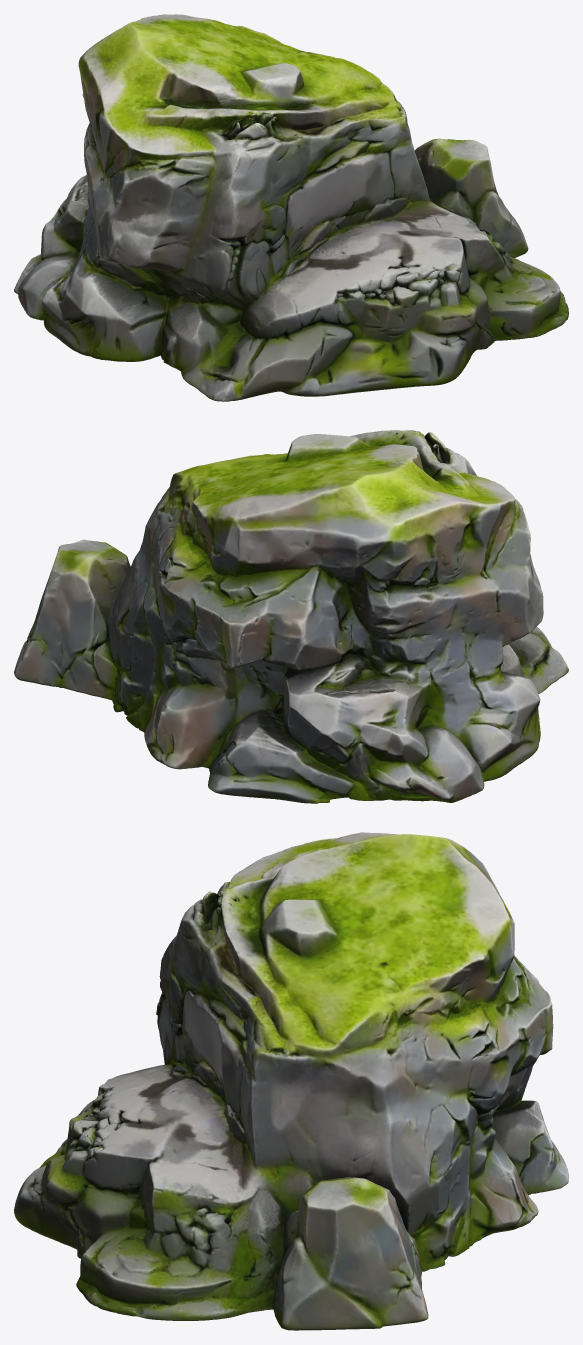
File: rock.glb
3 views of the same model, one above another, from view 1: azimuth 30°, elevation 25°; view 2: azimuth 150°, elevation 25°; view 3: azimuth 270°, elevation 25° (orthographic). The views are drawn at different scales.
Size of the model in its own units: 1.9 by 1.06 by 1.74.
1 material, 1 textured.
